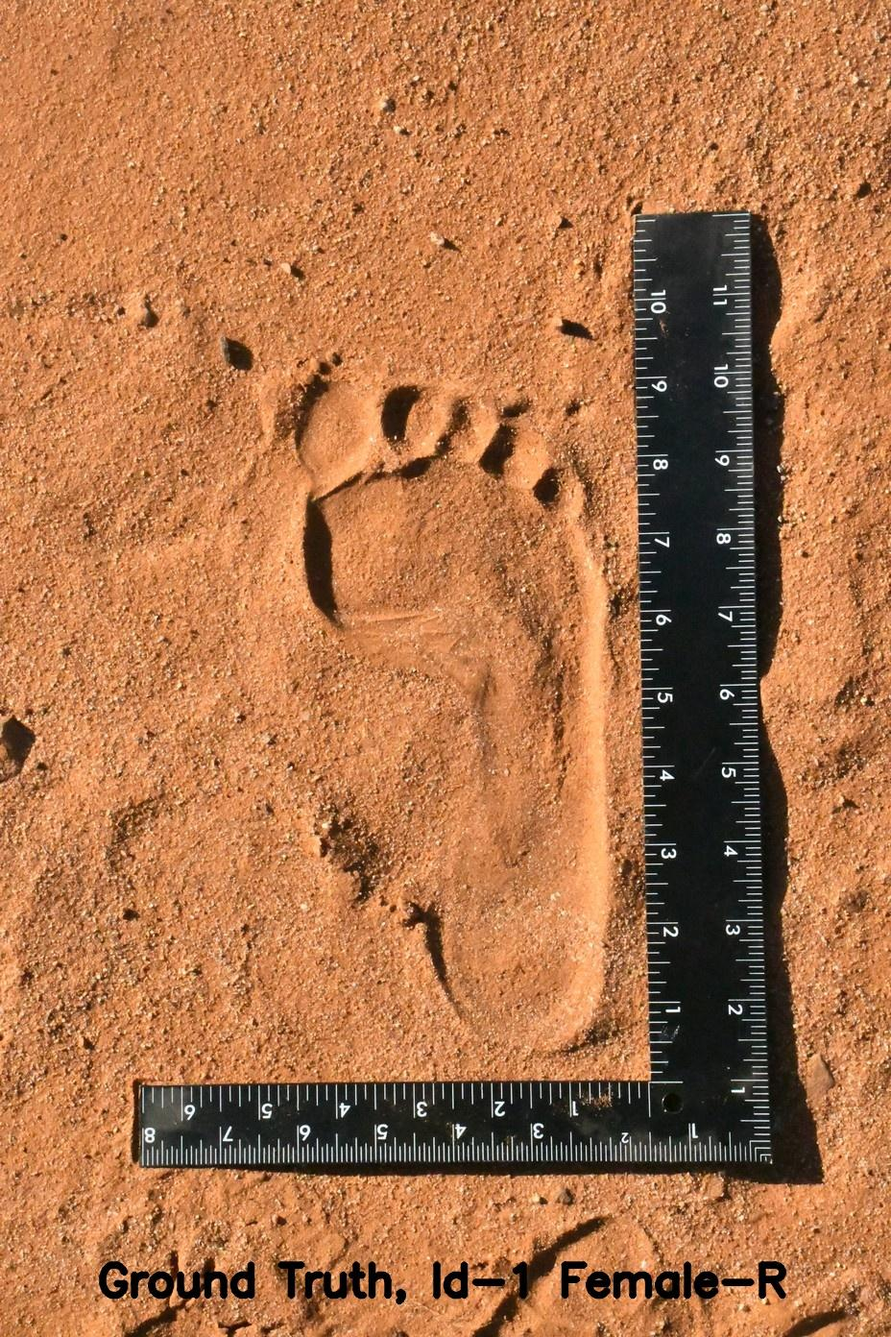human_foot_print: (256, 285, 621, 1069)
